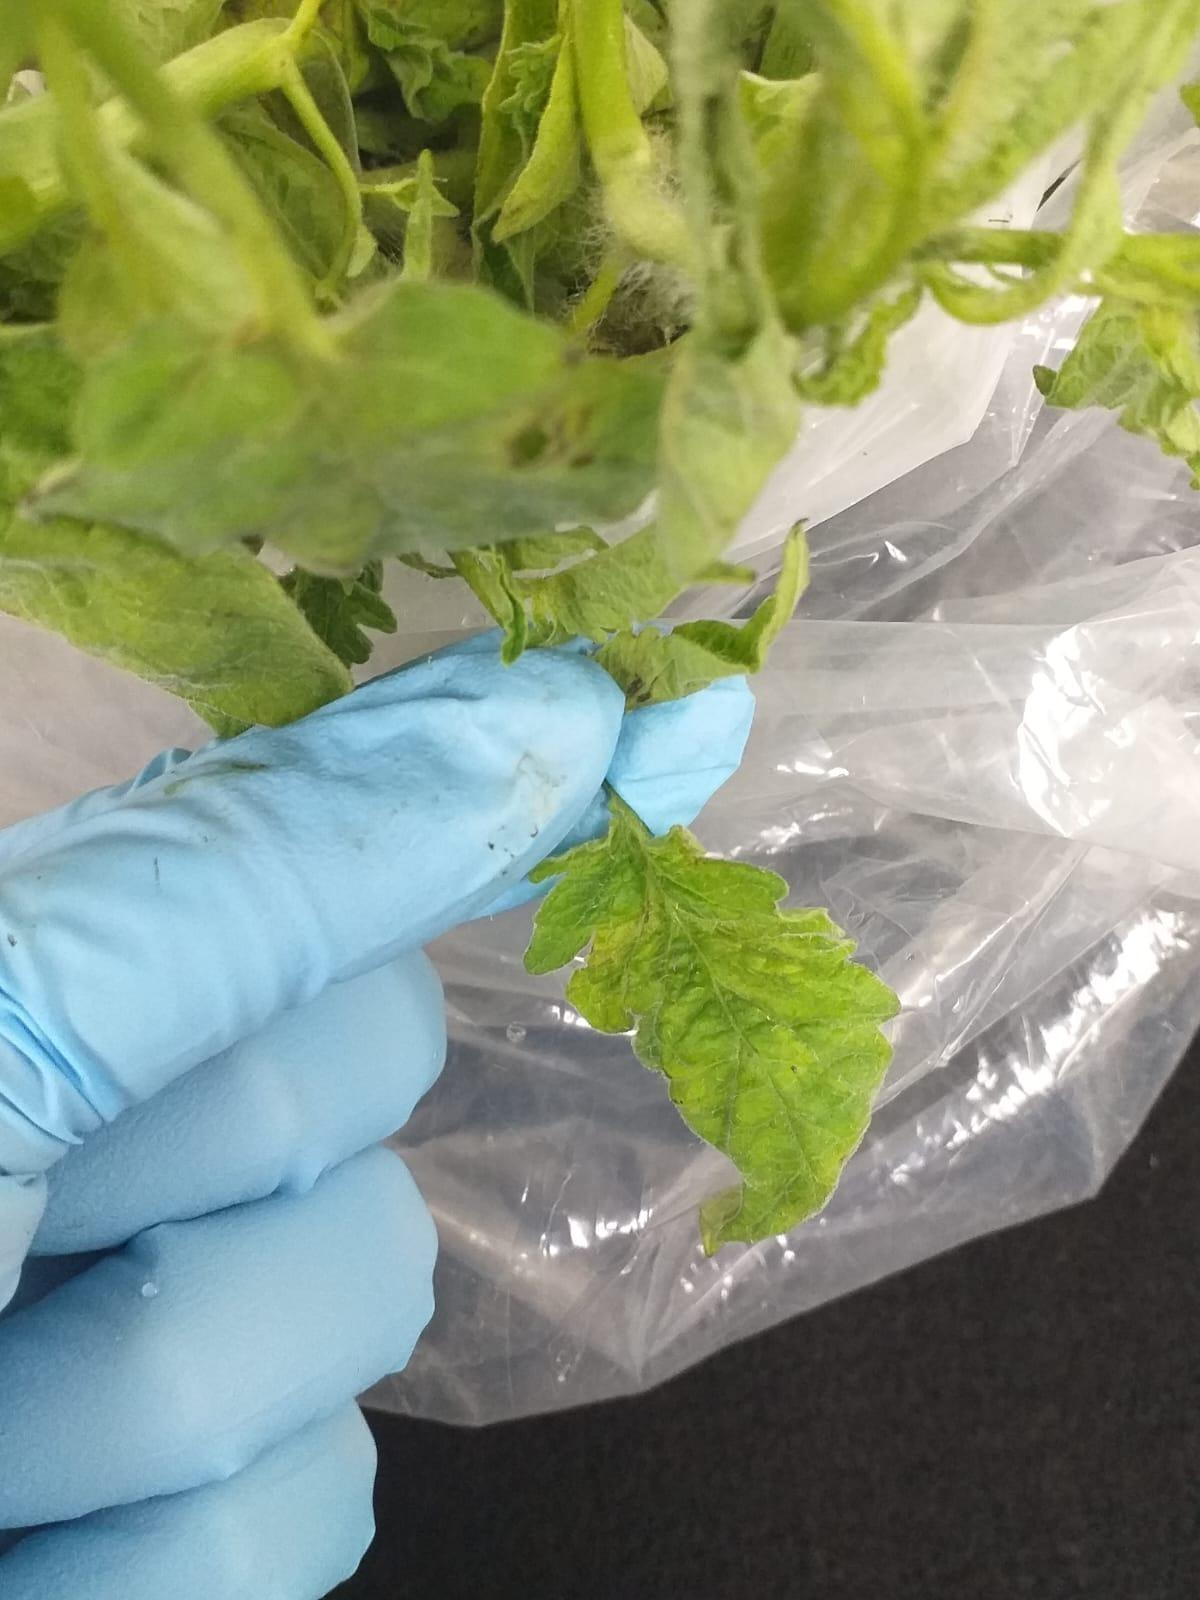Rugose leaf: (523, 797, 897, 1254)
